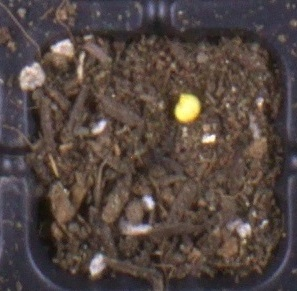chilli seed: (173, 92, 201, 123)
